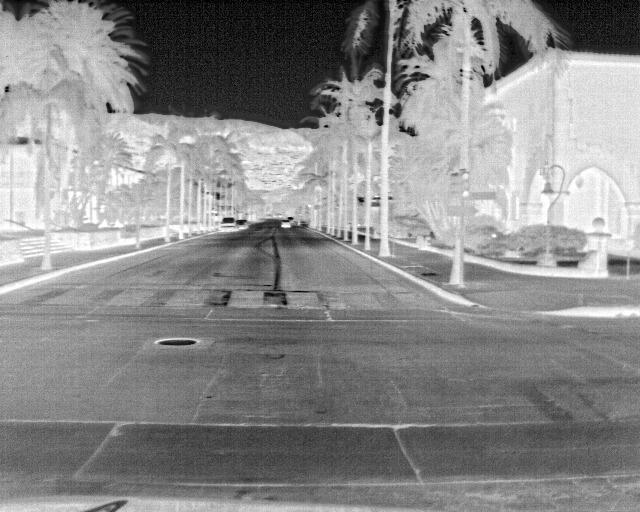car: (219, 216, 239, 234), (234, 217, 247, 231), (280, 218, 292, 230)
